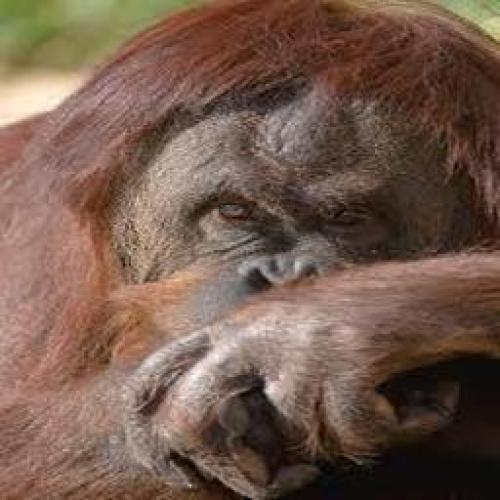orangutan-endangered: (70, 1, 475, 469)
